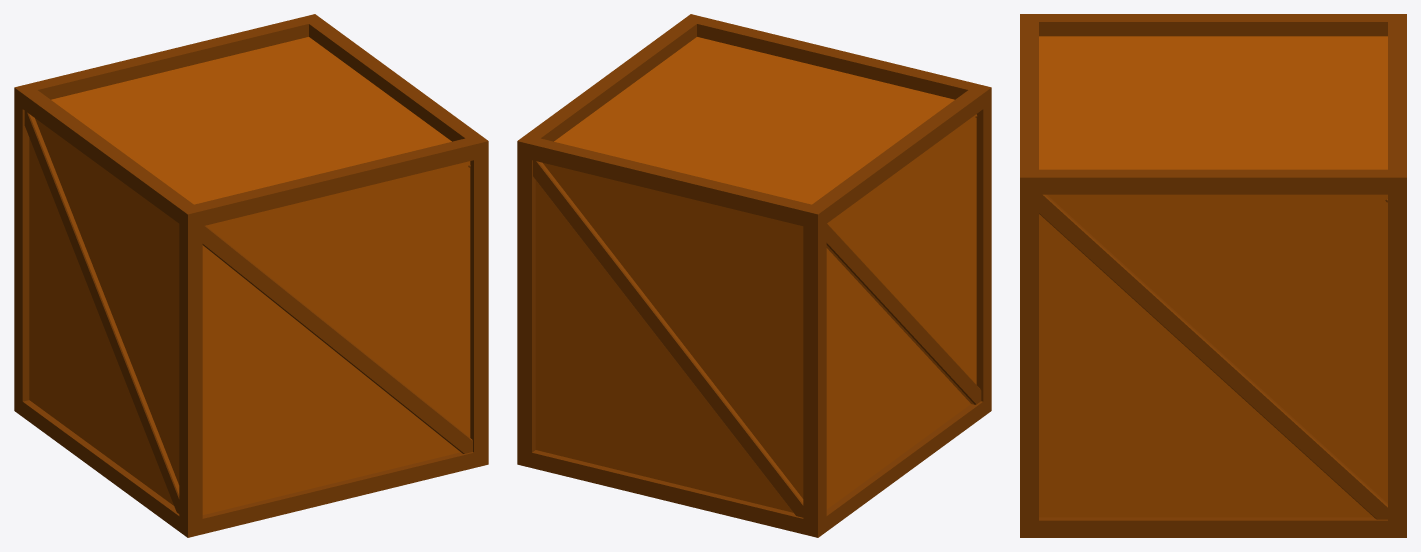
The model's file is Caixa.fbx.
The picture shows the model from 3 angles, left to right: view 1: azimuth 30°, elevation 25°; view 2: azimuth 150°, elevation 25°; view 3: azimuth 270°, elevation 25°; orthographic projection. The views are drawn at different scales.
Visible parts, largest first — view 1: Caixa; view 2: Caixa; view 3: Caixa.
Part boxes in pixels (bbox=[...]): Caixa: bbox=[14, 14, 488, 537]; Caixa: bbox=[517, 14, 991, 537]; Caixa: bbox=[1020, 14, 1406, 537].
Size of the model in its own units: 90.01 by 92.46 by 89.94.
1 material, 1 textured.
